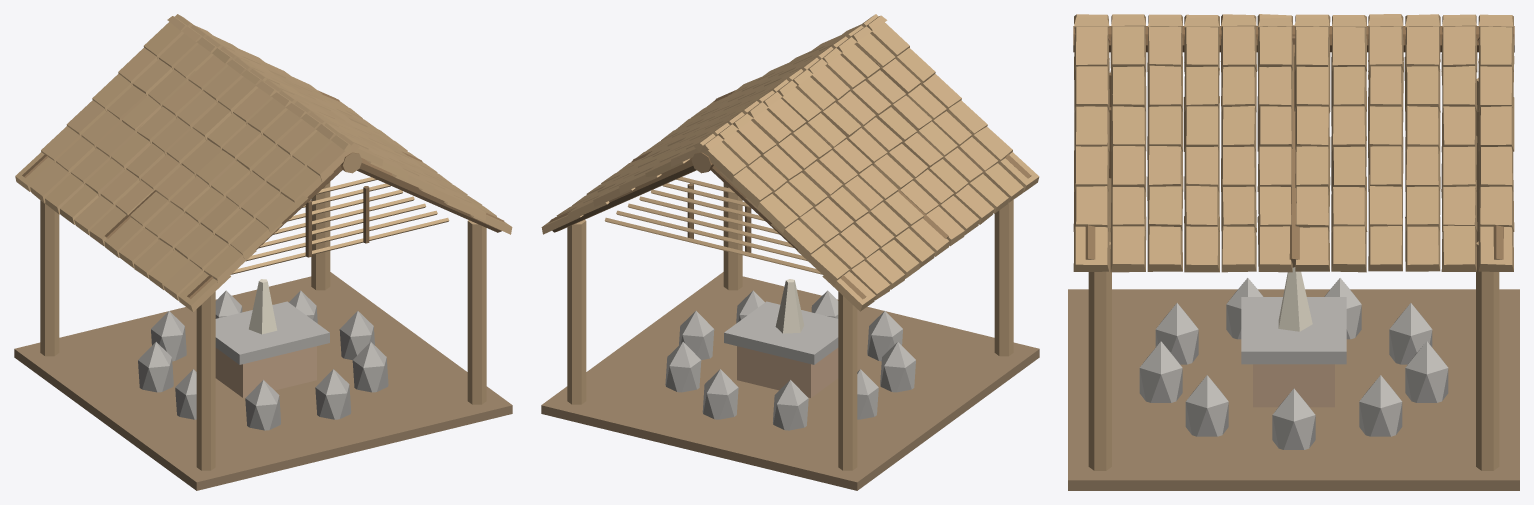
The model's file is building_shrine_complete.glb.
3 views of the same model, side by side, from view 1: azimuth 30°, elevation 25°; view 2: azimuth 150°, elevation 25°; view 3: azimuth 270°, elevation 25° (orthographic). The views are drawn at different scales.
Parts seen in each view (by area): view 1: building_shrine_complete; view 2: building_shrine_complete; view 3: building_shrine_complete.
Boxes of the visible parts, bbox=[...] form: building_shrine_complete: bbox=[14, 14, 512, 490]; building_shrine_complete: bbox=[541, 14, 1039, 490]; building_shrine_complete: bbox=[1068, 14, 1519, 490].
Bounding box in the file's own units: 3.91 × 3.57 × 3.85.
